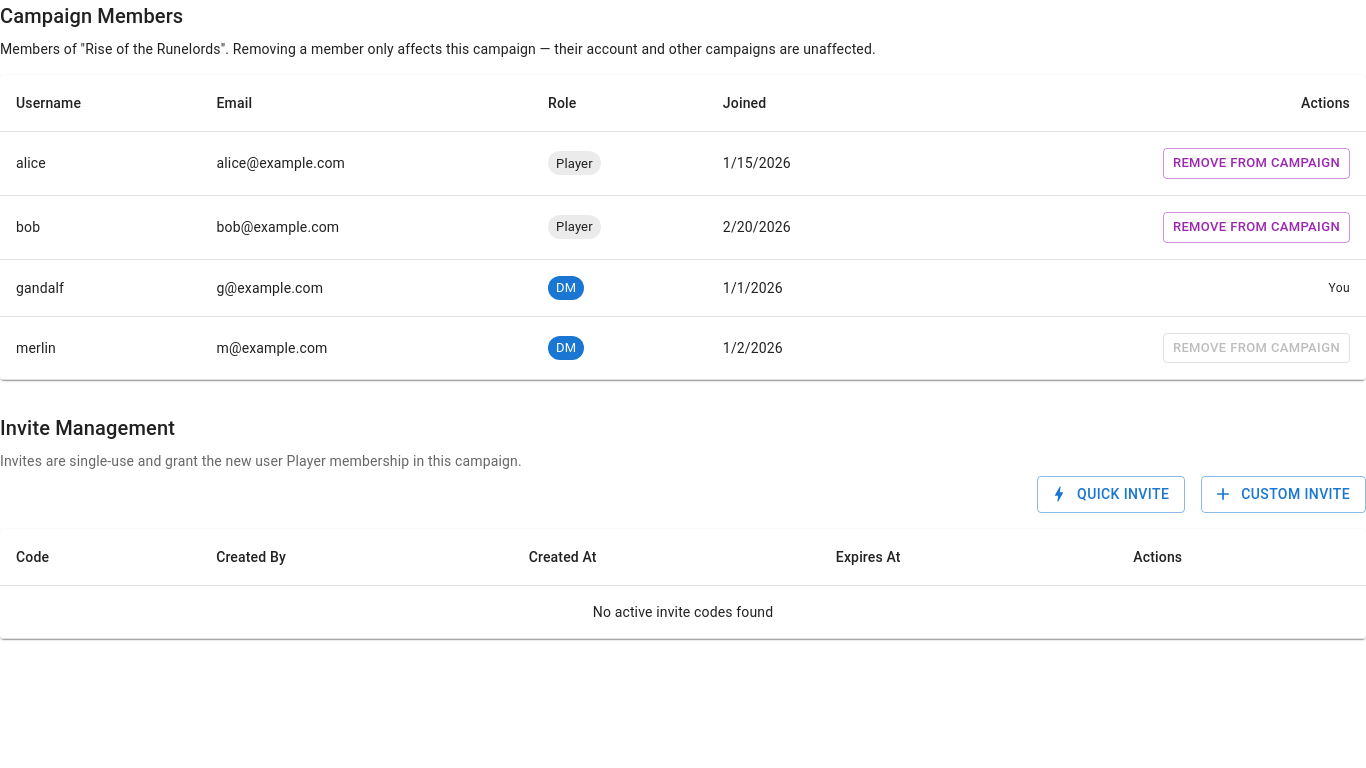
Test: UserManagement (campaign members) › Remove flow › shows the account-unaffected confirmation text with member and campaign names
Expected: the text "alice" is shown, [0,132,200,195]
Click the button "Remove from campaign" in the row of "alice@example.com": (1256, 163) [1163,148,1350,179]
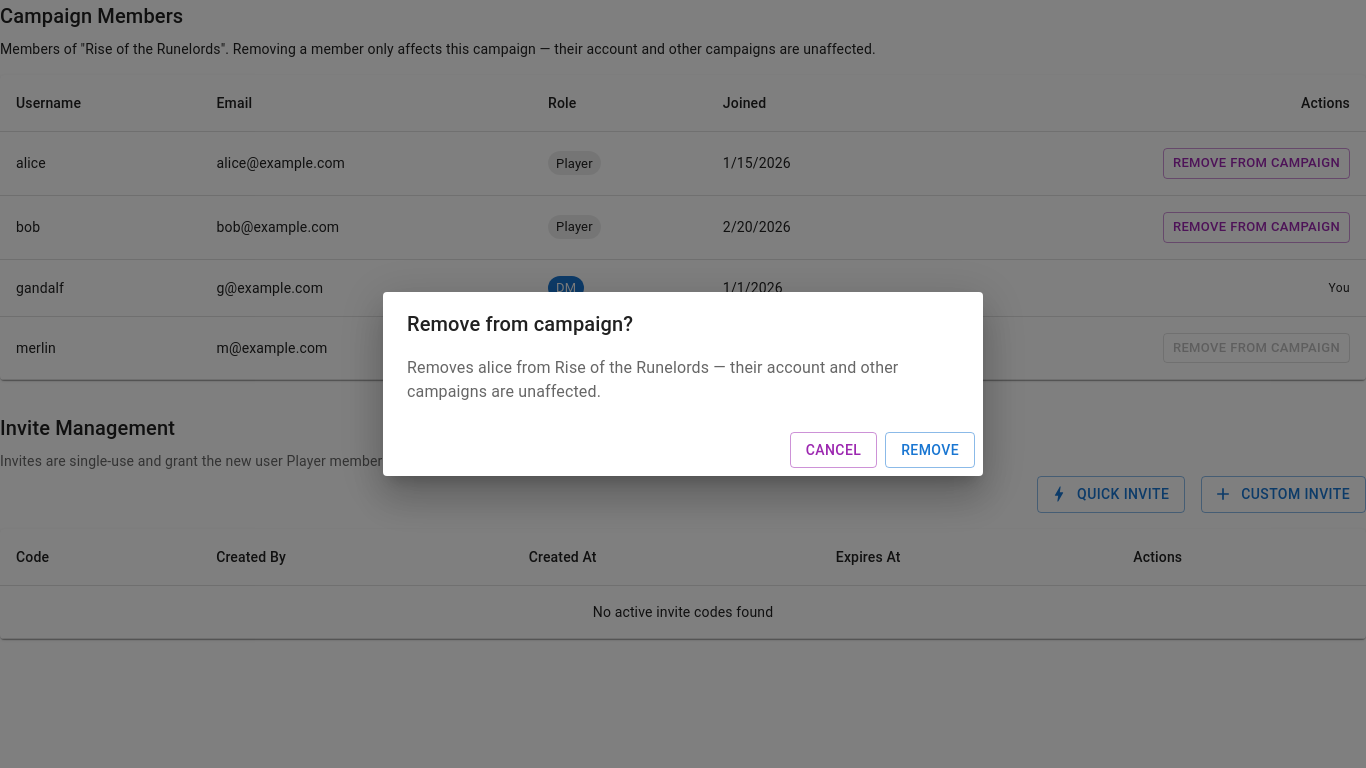
Expected: the text "Removes alice from Rise of the Runelords — their account and other campaigns are unaffected." is shown, [407,358,898,401]
